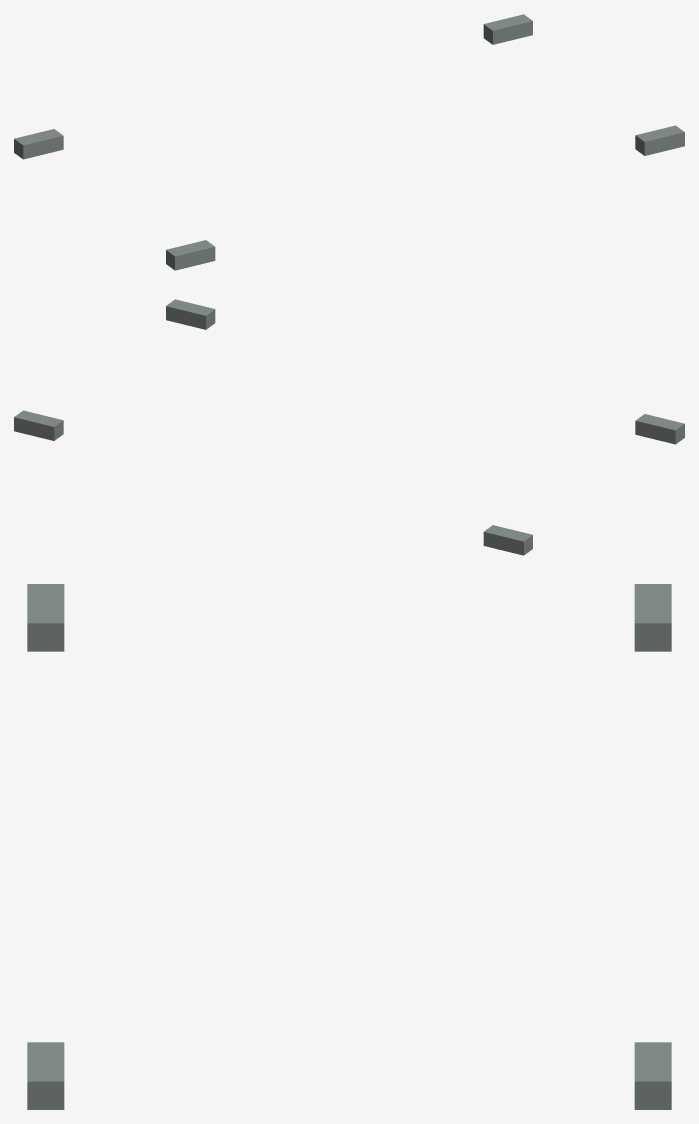
Rendered from DoorHandles.glb.
The picture shows the model from 3 angles, top to bottom: view 1: azimuth 30°, elevation 25°; view 2: azimuth 150°, elevation 25°; view 3: azimuth 270°, elevation 25°; orthographic projection. The views are drawn at different scales.
Visible parts, largest first — view 1: Cube.069; view 2: Cube.069; view 3: Cube.069.
Boxes of the visible parts, x1,y1,x2,y2 form: Cube.069: (14,14,684,270); Cube.069: (14,299,684,555); Cube.069: (27,584,671,1109).
Bounding box in the file's own units: 0.1226 × 0.00323 × 0.0671.
1 material, 1 textured.
